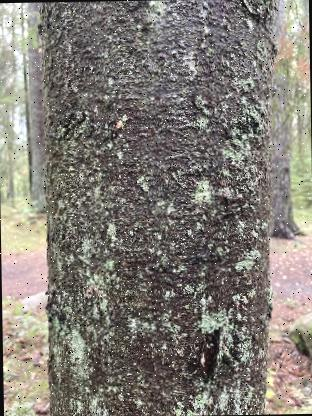tree: (33, 0, 287, 416)
